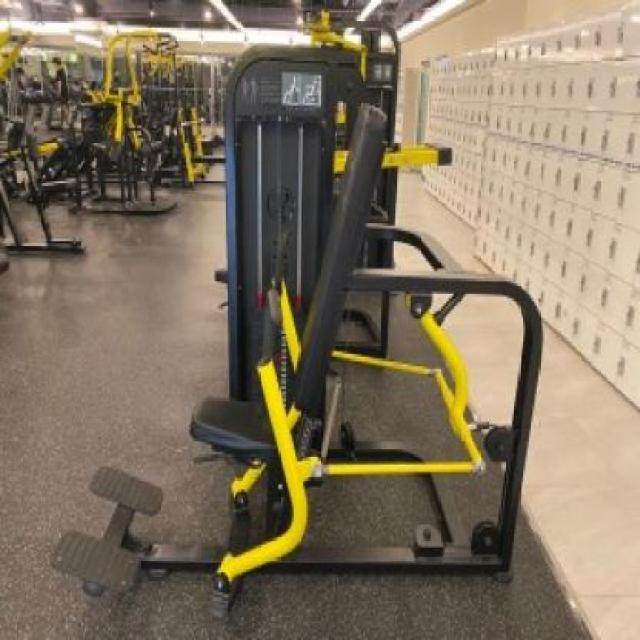Chest Press machine: (49, 29, 545, 620)
